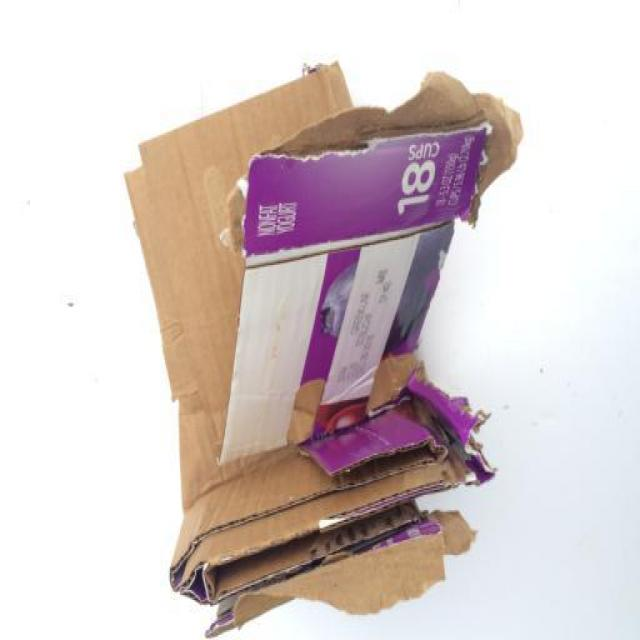cardboard: (112, 50, 516, 630)
